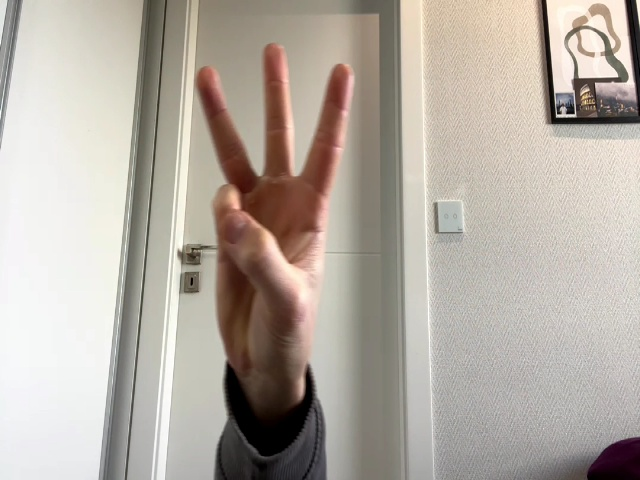W: (197, 43, 355, 363)
